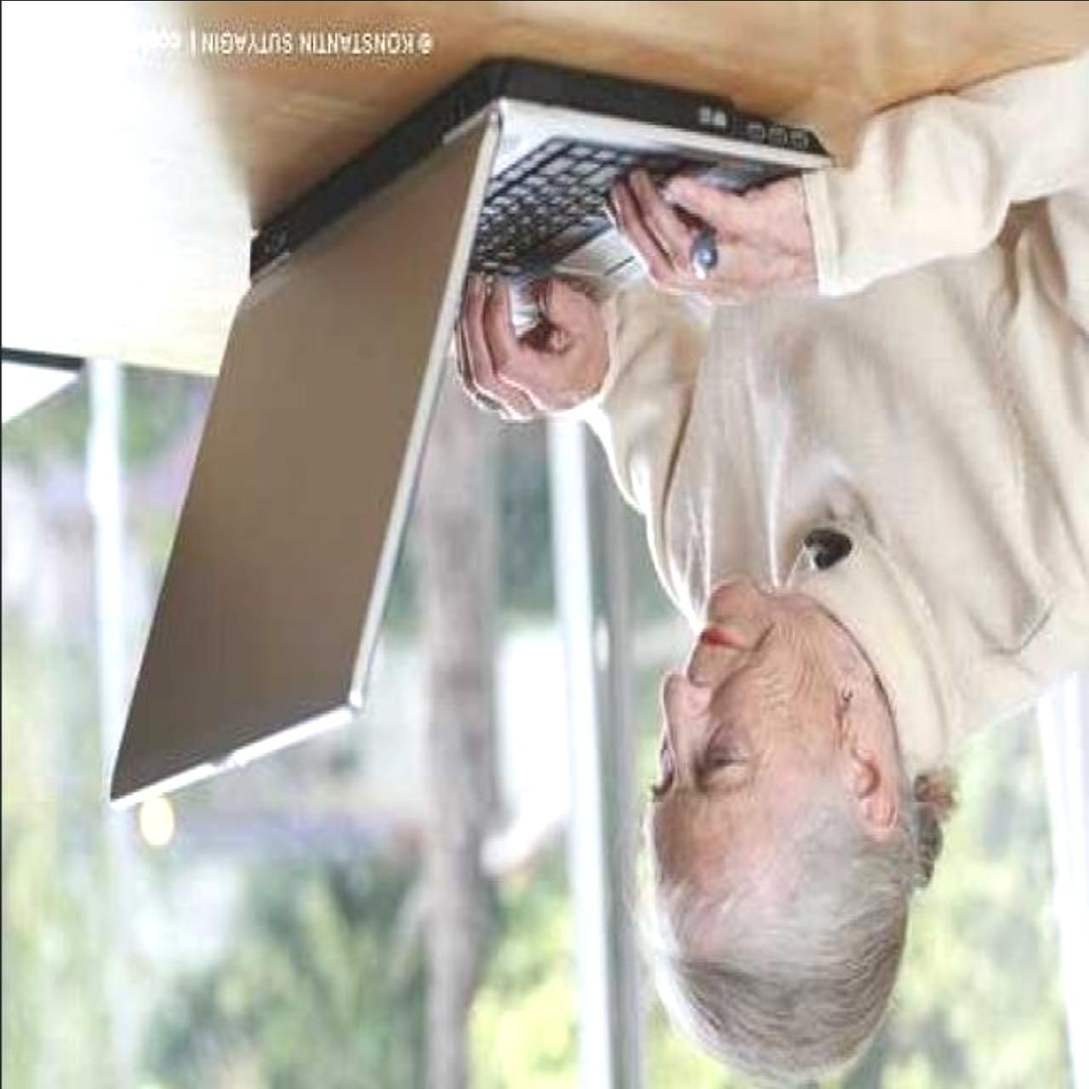laptop: (63, 87, 798, 812)
